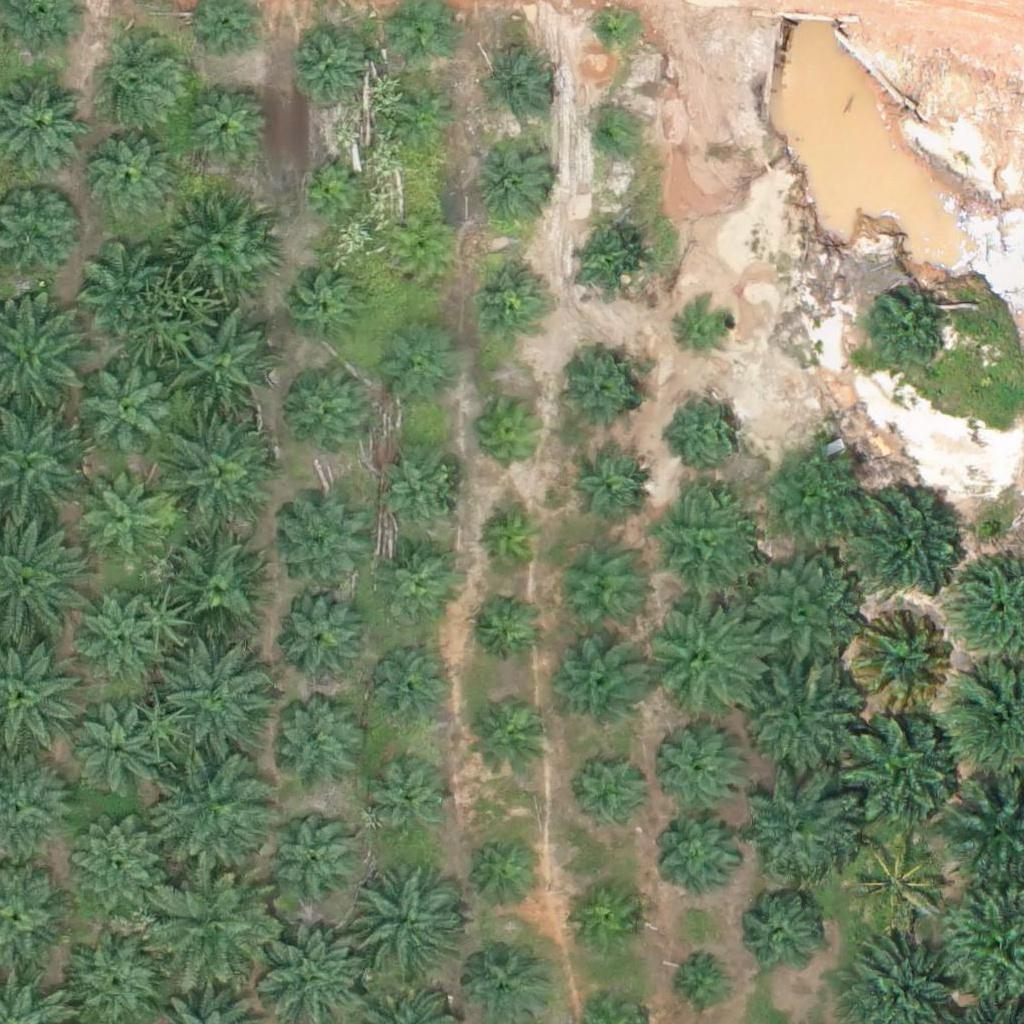Kelapa_Sawit: (641, 590, 766, 716), (345, 863, 470, 989), (844, 475, 969, 601), (838, 709, 963, 835), (741, 656, 866, 782), (738, 762, 863, 888), (733, 555, 858, 680), (839, 823, 952, 937), (166, 422, 279, 535), (151, 756, 264, 869), (155, 876, 268, 989), (846, 604, 959, 717), (158, 641, 270, 755), (758, 438, 870, 552), (648, 490, 760, 603), (655, 715, 755, 816), (175, 321, 275, 422), (166, 533, 266, 634), (547, 546, 647, 646), (169, 198, 269, 298), (62, 812, 162, 912), (91, 34, 191, 134), (561, 351, 649, 439), (653, 809, 741, 897), (373, 544, 461, 632), (370, 761, 458, 849), (279, 501, 367, 589), (276, 590, 364, 678), (273, 818, 361, 906), (72, 931, 160, 1019), (76, 713, 164, 801), (86, 368, 174, 456), (285, 370, 372, 459), (89, 134, 176, 223), (565, 448, 652, 536), (863, 290, 950, 378), (556, 636, 643, 724), (372, 452, 459, 540), (364, 646, 451, 734), (270, 701, 357, 789), (73, 589, 160, 677), (78, 474, 165, 562), (77, 241, 164, 329), (288, 23, 375, 111), (183, 80, 270, 168), (733, 889, 820, 977), (478, 45, 553, 121), (569, 226, 644, 302), (472, 701, 547, 777), (467, 590, 542, 666), (473, 502, 548, 578), (671, 389, 746, 465), (478, 142, 553, 218), (286, 269, 361, 344), (383, 333, 458, 408), (470, 260, 545, 335), (476, 393, 551, 468), (469, 837, 544, 912), (569, 877, 644, 952), (578, 757, 653, 832), (387, 217, 450, 280), (397, 91, 459, 154), (676, 298, 738, 361), (670, 947, 732, 1010), (296, 157, 358, 219), (588, 6, 638, 56), (584, 113, 634, 163)
